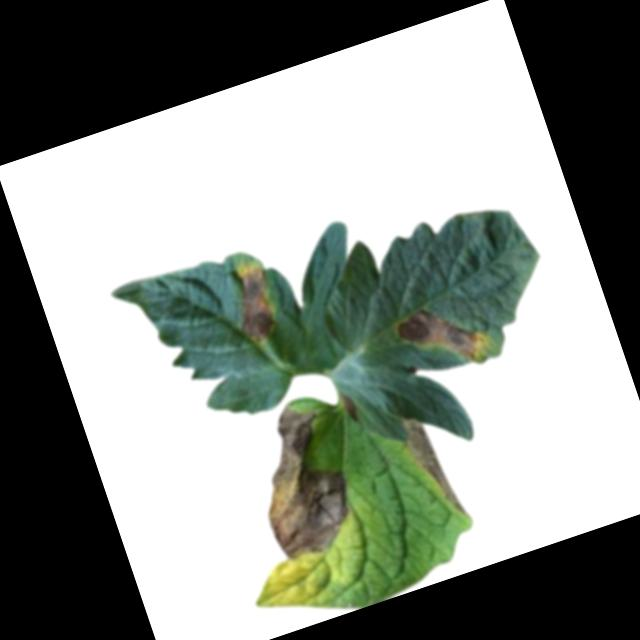Early_blight: (236, 395, 367, 564), (393, 289, 493, 377), (398, 408, 466, 525), (222, 259, 289, 347), (337, 389, 361, 424)
